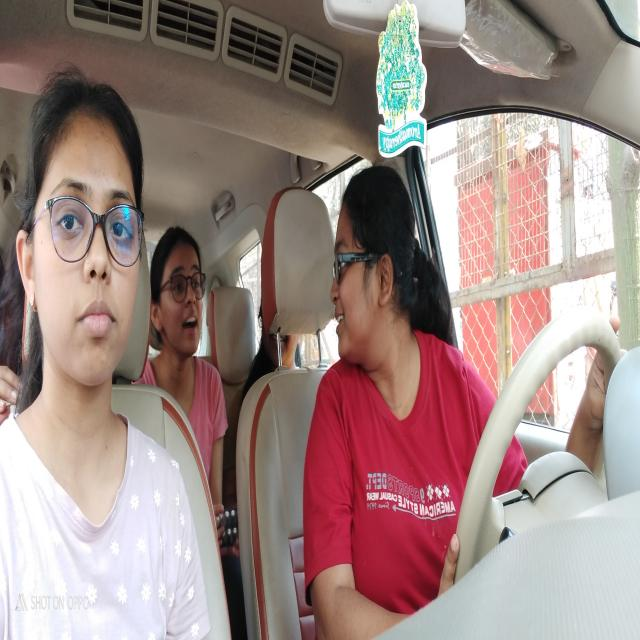LeftRight: (328, 188, 400, 360)
person: (37, 120, 135, 370), (158, 252, 205, 355)
talking: (332, 308, 346, 329)
